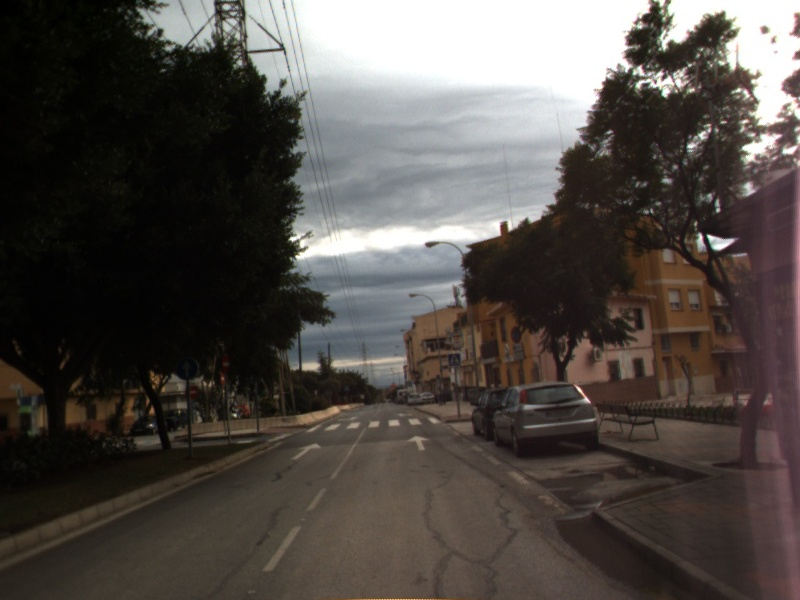STRAIGHT: (289, 441, 324, 462), (405, 433, 432, 452)
